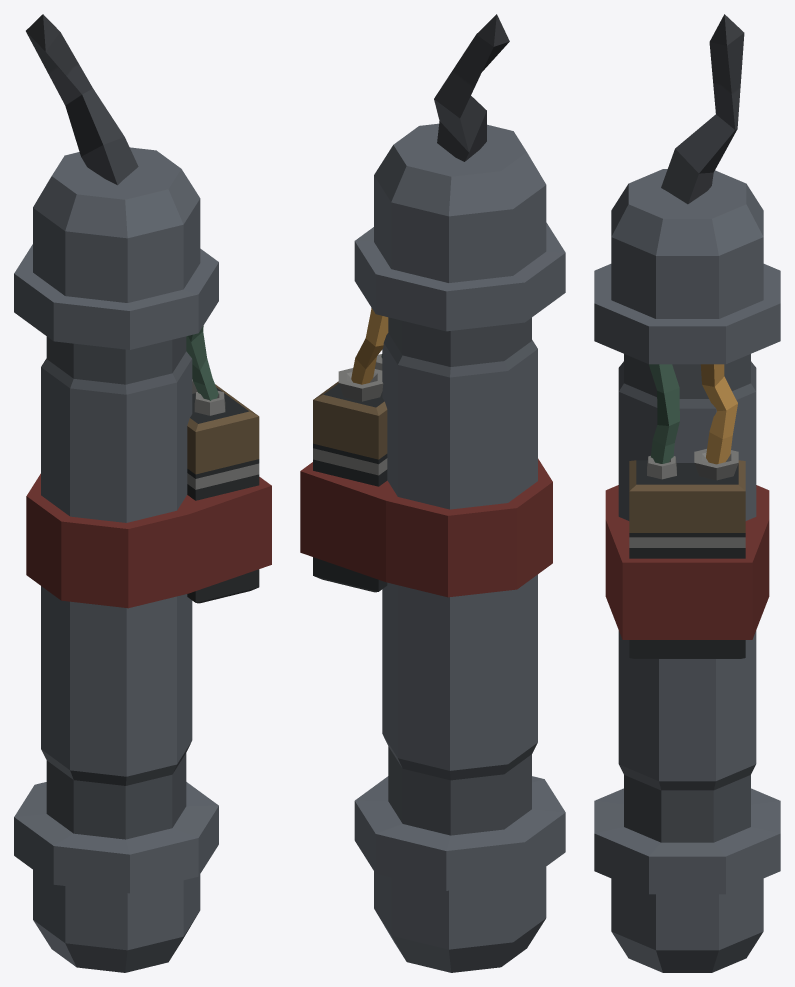
File: SM_Prop_IED_07.glb
3 views of the same model, side by side, from view 1: azimuth 30°, elevation 25°; view 2: azimuth 150°, elevation 25°; view 3: azimuth 270°, elevation 25° (orthographic). The views are drawn at different scales.
Parts seen in each view (by area): view 1: SM_Prop_IED_07; view 2: SM_Prop_IED_07; view 3: SM_Prop_IED_07.
Boxes of the visible parts, x1,y1,x2,y2 form: SM_Prop_IED_07: [14, 14, 271, 972]; SM_Prop_IED_07: [300, 14, 565, 972]; SM_Prop_IED_07: [594, 14, 780, 972].
Size of the model in its own units: 0.0768 by 0.334 by 0.0621.
1 material, 1 textured.
